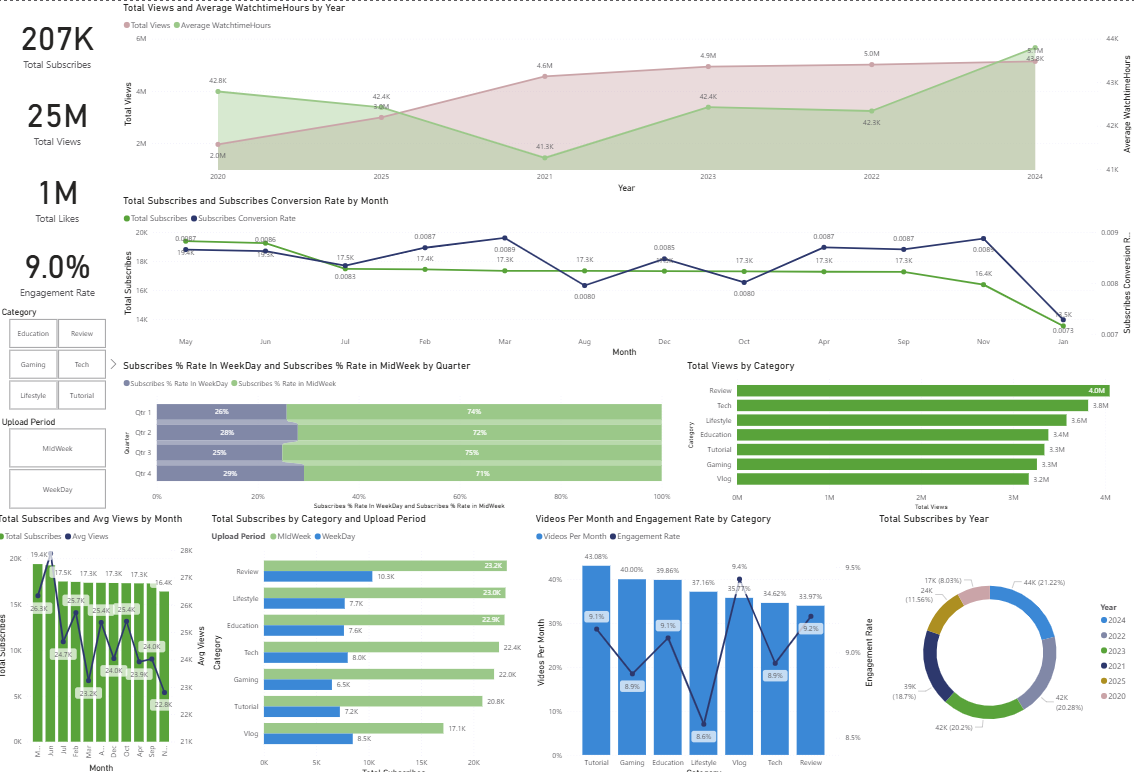

Layout of this report page (visuals, bound fields, positions):
{"tool":"powerbi","page":{"name":"Page 1","canvas":[1907,1288],"ordinal":0},"visuals":[{"type":"card","fields":{"Values":["All Measures.Total Subscribes"]},"box":[0,0,210,133.3],"z":1},{"type":"card","fields":{"Values":["All Measures.Total Views"]},"box":[0,133.3,210,123.3],"z":3},{"type":"card","fields":{"Values":["All Measures.Total Likes"]},"box":[0,256.7,210,130],"z":4},{"type":"card","fields":{"Values":["All Measures.Total Dislikes"]},"box":[510,10,12.5,100],"z":5},{"type":"lineChart","fields":{"Y":["All Measures.Total Views"],"Y2":["All Measures.Average WatchtimeHours"],"Category":["YouTube_Video_Metadata.Year"]},"box":[210,0,1690,256],"z":7},{"type":"card","fields":{"Values":["All Measures.Engagement Rate"]},"box":[0,387.5,210,117.5],"z":11},{"type":"donutChart","fields":{"Category":["YouTube_Video_Metadata.Year"],"Y":["All Measures.Total Subscribes"]},"box":[1470,853.3,430,446.7],"z":13},{"type":"clusteredBarChart","fields":{"Category":["YouTube_Video_Metadata.Category"],"Y":["All Measures.Total Subscribes"],"Series":["YouTube_Video_Metadata.Upload Period"]},"box":[356.7,853.3,540,446.7],"z":14},{"type":"lineStackedColumnComboChart","fields":{"Y":["All Measures.Videos Per Month"],"Category":["YouTube_Video_Metadata.Category"],"Y2":["All Measures.Engagement Rate"]},"box":[896.7,853.3,573.3,446.7],"z":15},{"type":"barChart","fields":{"Category":["YouTube_Video_Metadata.Quarter"],"Y":["All Measures.Subscribes % Rate In WeekDay","All Measures.Subscribes % Rate in MidWeek"]},"box":[210,597.5,922.5,255],"z":16},{"type":"lineChart","fields":{"Category":["YouTube_Video_Metadata.Month"],"Y":["All Measures.Total Subscribes"],"Y2":["All Measures.Subscribes Conversion Rate"]},"box":[210,322.5,1690,275],"z":17},{"type":"clusteredBarChart","fields":{"Category":["YouTube_Video_Metadata.Category"],"Y":["All Measures.Total Views"]},"box":[1150,596.7,750,256.7],"z":18},{"type":"slicer","fields":{"Values":["YouTube_Video_Metadata.Category"]},"box":[0,505,210,182.5],"z":19},{"type":"slicer","fields":{"Values":["YouTube_Video_Metadata.Upload Period"]},"box":[0,687.5,210,165],"z":20},{"type":"lineStackedColumnComboChart","fields":{"Category":["YouTube_Video_Metadata.Month"],"Y":["All Measures.Total Subscribes"],"Y2":["All Measures.Avg Views"]},"box":[0,853.3,356.7,446.7],"z":22}]}

Visuals, with their boxes in screenshot pixels (x1, y1, x2, y2), scaled from the page's 1907x1288 canvas onto the 1134x772 screenshot:
card - All Measures.Total Subscribes: l=0, t=0, r=125, b=80
card - All Measures.Total Views: l=0, t=80, r=125, b=154
card - All Measures.Total Likes: l=0, t=154, r=125, b=232
card - All Measures.Total Dislikes: l=303, t=6, r=311, b=66
lineChart - All Measures.Total Views x All Measures.Average WatchtimeHours: l=125, t=0, r=1130, b=153
card - All Measures.Engagement Rate: l=0, t=232, r=125, b=303
donutChart - YouTube_Video_Metadata.Year x All Measures.Total Subscribes: l=874, t=511, r=1130, b=771
clusteredBarChart - YouTube_Video_Metadata.Category x All Measures.Total Subscribes: l=212, t=511, r=533, b=771
lineStackedColumnComboChart - All Measures.Videos Per Month x YouTube_Video_Metadata.Category: l=533, t=511, r=874, b=771
barChart - YouTube_Video_Metadata.Quarter x All Measures.Subscribes % Rate In WeekDay: l=125, t=358, r=673, b=511
lineChart - YouTube_Video_Metadata.Month x All Measures.Total Subscribes: l=125, t=193, r=1130, b=358
clusteredBarChart - YouTube_Video_Metadata.Category x All Measures.Total Views: l=684, t=358, r=1130, b=512
slicer - YouTube_Video_Metadata.Category: l=0, t=303, r=125, b=412
slicer - YouTube_Video_Metadata.Upload Period: l=0, t=412, r=125, b=511
lineStackedColumnComboChart - YouTube_Video_Metadata.Month x All Measures.Total Subscribes: l=0, t=511, r=212, b=771
